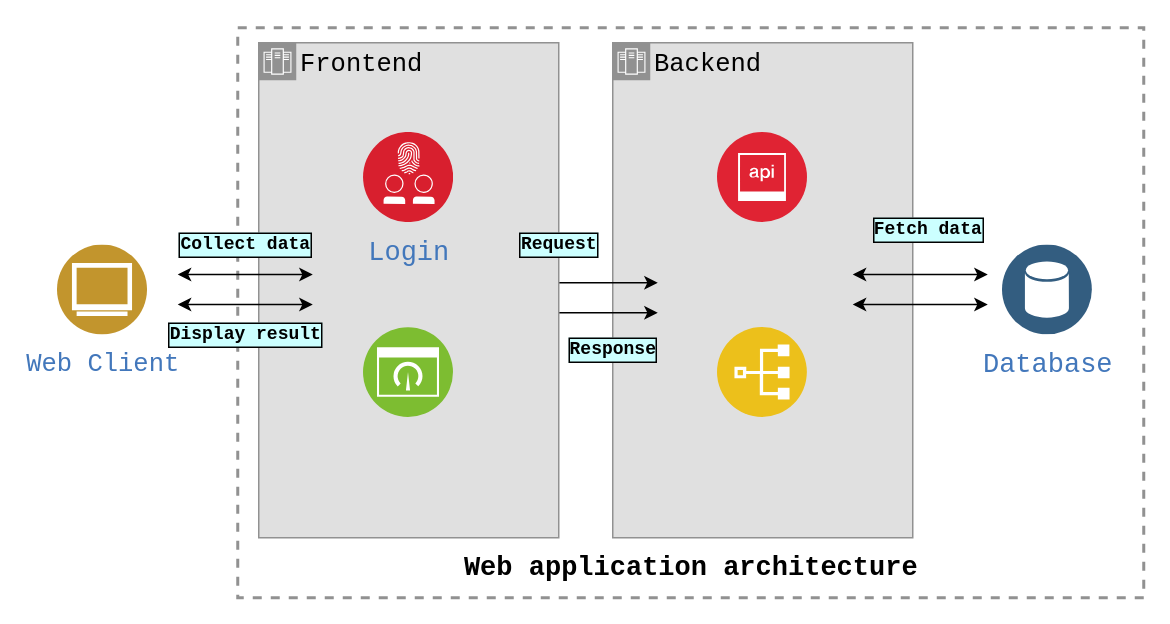
The diagram is 1170 pixels wide and 624 high, and some of its shapes have lost their labels. Here are the shapes that lost their labels. From the top down, the box of each, then its label:
(717, 132, 807, 222): API
(363, 327, 453, 417): App
(717, 327, 807, 417): Functions
